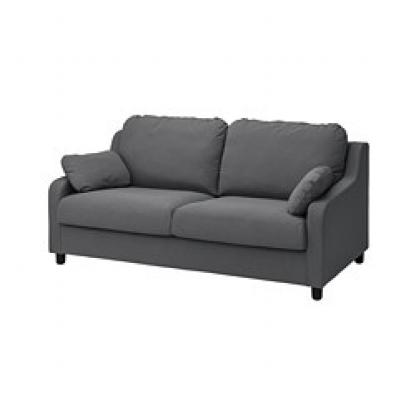Sofa: (37, 96, 378, 314)
